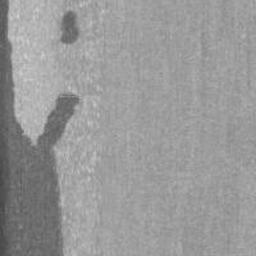Water spot: (0, 0, 82, 256), (55, 9, 81, 46)
